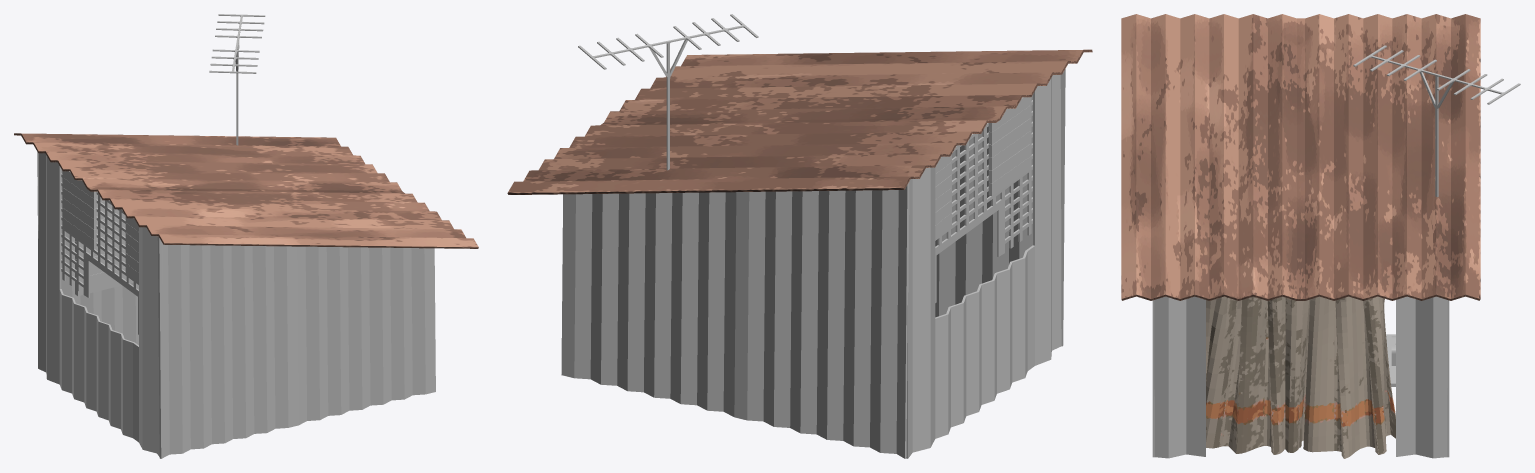
File: garaj.fbx
3 views of the same model, side by side, from view 1: azimuth 30°, elevation 25°; view 2: azimuth 150°, elevation 25°; view 3: azimuth 270°, elevation 25° (orthographic). The views are drawn at different scales.
Visible parts, largest first — view 1: Plane.010, Plane.012, Plane.009, Plane.008, Plane.013, Plane.014, Plane.016, Plane.015; view 2: Plane.010, Plane.012, Plane.009, Plane.008, Plane.013, Plane.014, Plane.015; view 3: Plane.012, Plane.019, Plane.011, Plane.015, Plane.010.
Part boxes in pixels (x1,y1,x2,y2): Plane.010: (37, 152, 435, 458); Plane.012: (14, 133, 478, 248); Plane.009: (38, 153, 162, 456); Plane.008: (59, 289, 138, 442); Plane.013: (61, 171, 138, 334); Plane.014: (63, 171, 138, 282); Plane.016: (75, 194, 133, 295); Plane.015: (209, 14, 265, 145); Plane.010: (561, 69, 1065, 458); Plane.012: (507, 49, 1092, 194); Plane.009: (906, 75, 1061, 458); Plane.008: (935, 245, 1034, 438); Plane.013: (935, 97, 1032, 302); Plane.014: (935, 97, 1030, 237); Plane.015: (578, 14, 758, 170); Plane.012: (1121, 14, 1480, 300); Plane.019: (1206, 296, 1395, 458); Plane.011: (1154, 296, 1447, 458); Plane.015: (1353, 45, 1520, 197); Plane.010: (1152, 300, 1449, 457).
Size of the model in its own units: 441 by 376 by 403.
